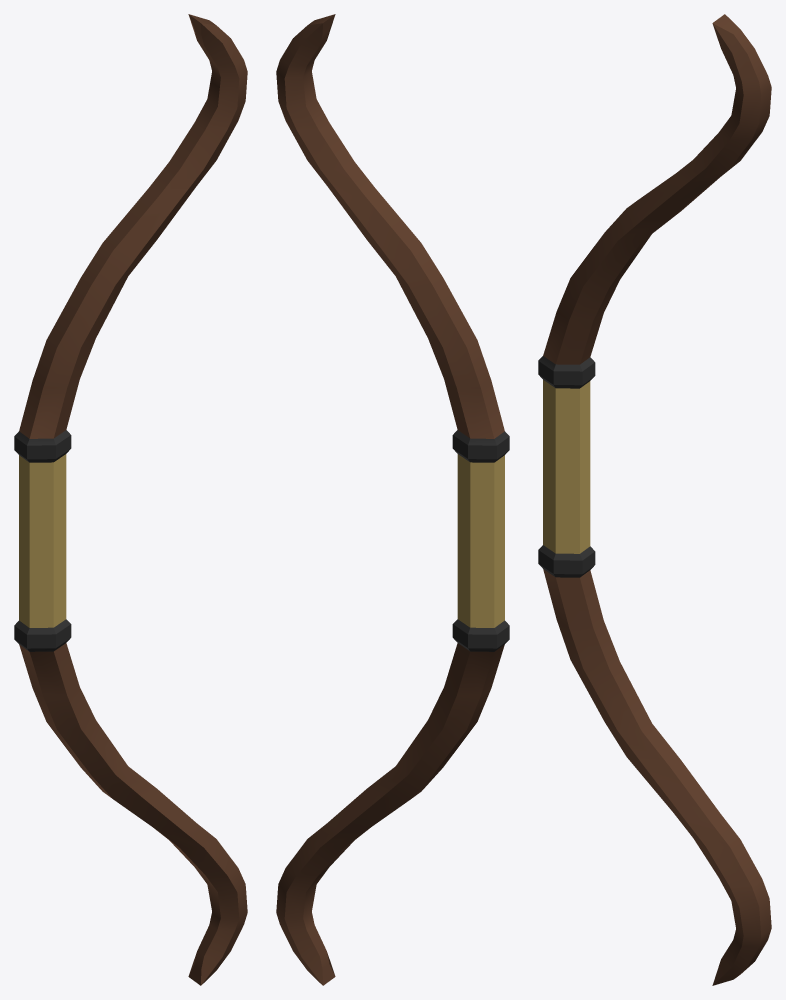
File: BowAndArrow.fbx
3 renders of one model, left to right at view 1: azimuth 30°, elevation 25°; view 2: azimuth 150°, elevation 25°; view 3: azimuth 330°, elevation 25°, orthographic.
Parts seen in each view (by area): view 1: Bow; view 2: Bow; view 3: Bow.
Part boxes in pixels (box(x1,y1,x2,y2)): Bow: box(14, 14, 247, 985); Bow: box(276, 14, 509, 985); Bow: box(538, 14, 771, 985).
Size of the model in its own units: 0.2442 by 0.0504 by 1.01.
